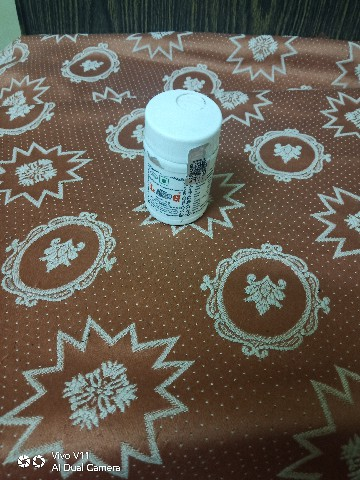lgasafoetidapowder small: (113, 73, 239, 243)
